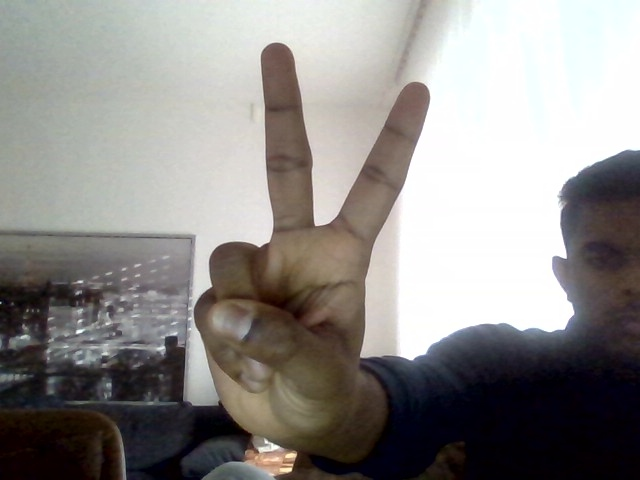livel: (194, 41, 433, 447)
